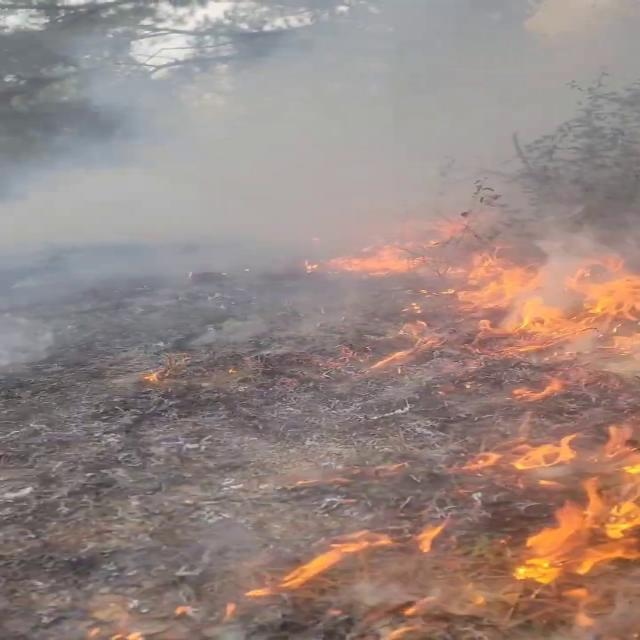Fire: (474, 234, 640, 430), (502, 418, 639, 618), (239, 518, 462, 608)
Smoke: (2, 0, 631, 380)
